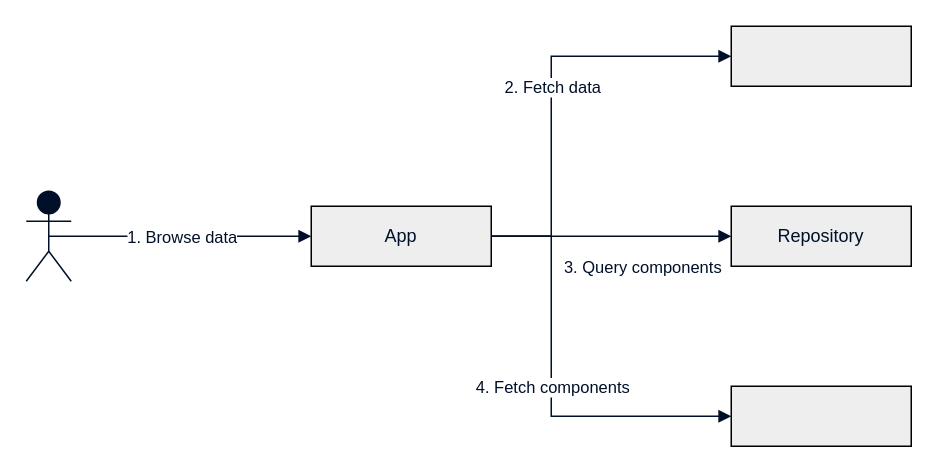
Some shapes in this 938 by 473 pixel diagram are drawn without their labels. The box of each missing label's shape, as (x1, y1, x2, y2) in pixels:
Host: (730, 385, 911, 446)
Pod: (730, 25, 911, 86)
